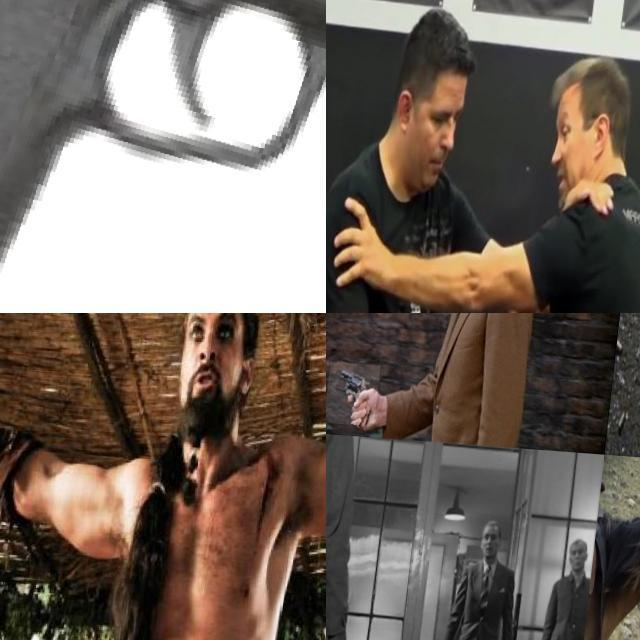-: (0, 367, 19, 576)
gun-knife-thesis - v11 Yolov5 augmented: (0, 0, 326, 313), (331, 361, 386, 425)
